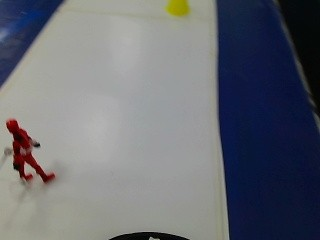cone: (160, 0, 192, 19)
pedestrian: (4, 117, 58, 186)
